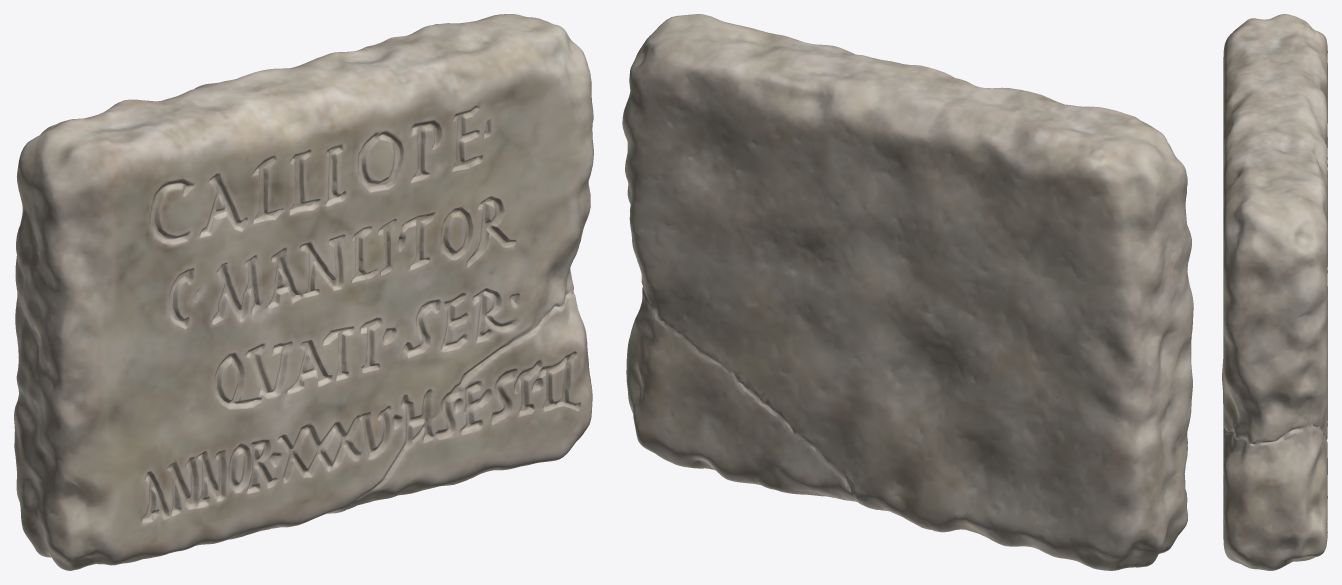
The model's file is 09_INS_calliope.glb.
3 renders of one model, left to right at view 1: azimuth 30°, elevation 25°; view 2: azimuth 150°, elevation 25°; view 3: azimuth 270°, elevation 25°, orthographic. The views are drawn at different scales.
Visible parts, largest first — view 1: CALLIOPE_LP; view 2: CALLIOPE_LP; view 3: CALLIOPE_LP.
Part boxes in pixels (<box>): CALLIOPE_LP: <box>14,14,593,570</box>; CALLIOPE_LP: <box>622,14,1193,570</box>; CALLIOPE_LP: <box>1222,14,1327,570</box>.
Size of the model in its own units: 0.397 by 0.301 by 0.0803.
Materials: 1 (1 with a texture image).
